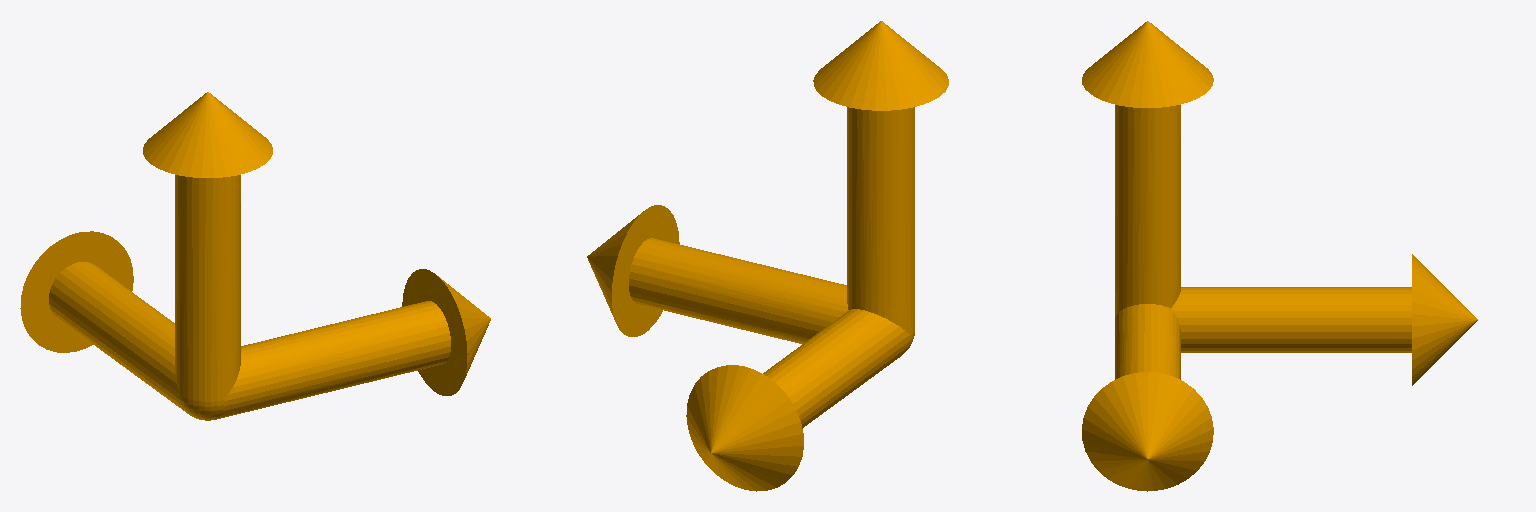
The robot description file, URDF, robot "pose_indicator_xyz":
<?xml version="1.0" ?>
<robot xmlns:xacro="http://www.ros.org/wiki/xacro" name="pose_indicator_xyz">

    <link name="pose_indicator_xyz">
        <inertial>
            <origin xyz="0.0 0.0 0.0" rpy="0 0 0"/>
            <mass value="0.0001"/>
        </inertial>

        <visual>
            <origin xyz="0.0 0.0 0.0" rpy="0.0 0.0 0.0"/>
            <geometry>
                <mesh filename="./meshes/pose_indicator_xyz/pose_indicator_xyz.obj" scale="1 1 1"/>
            </geometry>
        </visual>
        <collision>
            <origin xyz="0.0 0.0 0.0" rpy="0.0 0.0 0.0"/>
            <geometry>
                <mesh filename="./meshes/pose_indicator_xyz/pose_indicator_xyz.obj" scale="1 1 1"/>
            </geometry>
        </collision>
    </link>

</robot>

--- Facts derived from the render (not from the file) ---
3 views of the same robot in one strip: view 1: azimuth 30°, elevation 25°; view 2: azimuth 150°, elevation 25°; view 3: azimuth 270°, elevation 25° (orthographic).
Model pose_indicator_xyz with 1 links and 0 joints (none), rooted at pose_indicator_xyz, posed every joint at zero.
Links seen in each view (by area): view 1: pose_indicator_xyz; view 2: pose_indicator_xyz; view 3: pose_indicator_xyz.
Boxes of the visible links, x1,y1,x2,y2 form: pose_indicator_xyz: (20,92,490,420); pose_indicator_xyz: (587,21,948,491); pose_indicator_xyz: (1082,21,1477,491).
Size in the robot's own frame: 0.3 by 0.2999 by 0.3 metres.
1 mesh visuals loaded from 1 distinct referenced files (1 OBJ).
